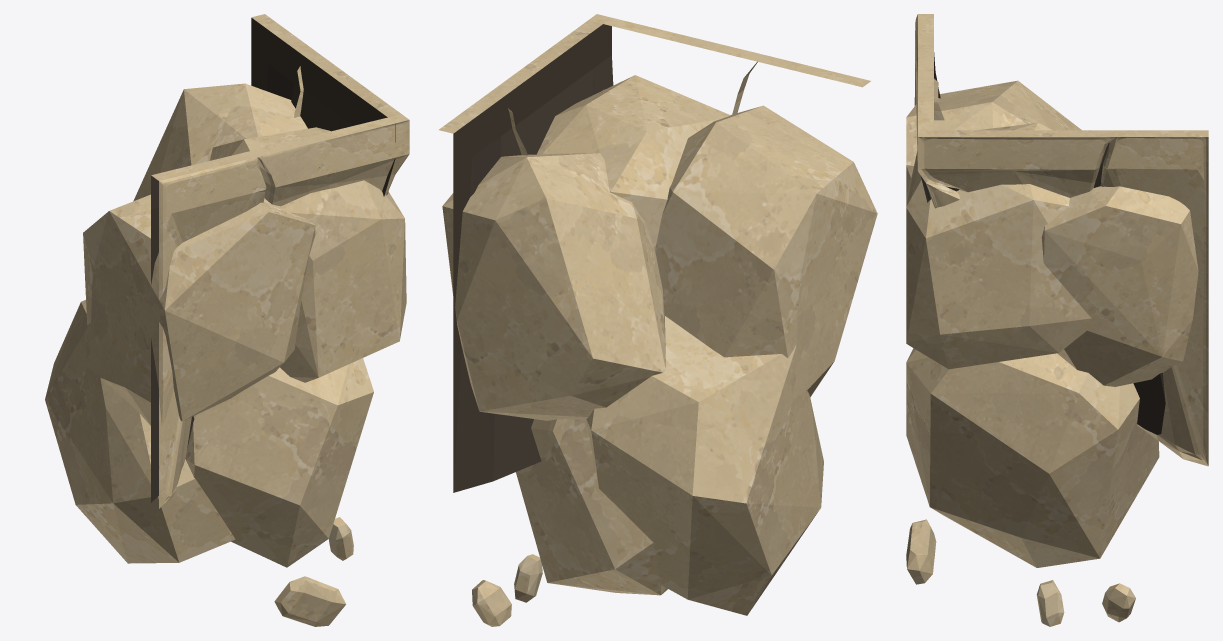
File: ground_bottom_corner_03.glb
The picture shows the model from 3 angles, left to right: view 1: azimuth 30°, elevation 25°; view 2: azimuth 150°, elevation 25°; view 3: azimuth 270°, elevation 25°; orthographic projection. The views are drawn at different scales.
Parts seen in each view (by area): view 1: GroundBottomCorner03_Body; view 2: GroundBottomCorner03_Body; view 3: GroundBottomCorner03_Body.
Boxes of the visible parts, left/top/right/bottom form: GroundBottomCorner03_Body: left=45, top=14, right=409, bottom=626; GroundBottomCorner03_Body: left=439, top=14, right=877, bottom=626; GroundBottomCorner03_Body: left=906, top=14, right=1208, bottom=626.
Bounding box in the file's own units: 1.04 × 1.86 × 1.04.
8 materials, 7 textured.
